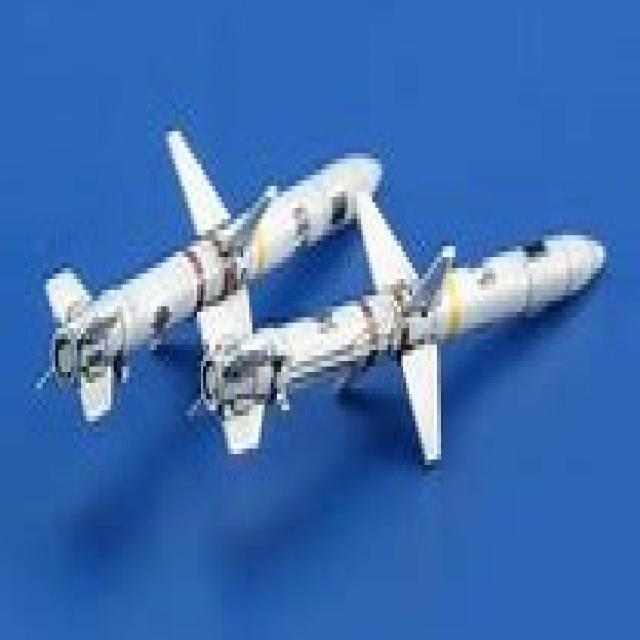missile: (190, 194, 607, 465), (39, 133, 384, 453)
